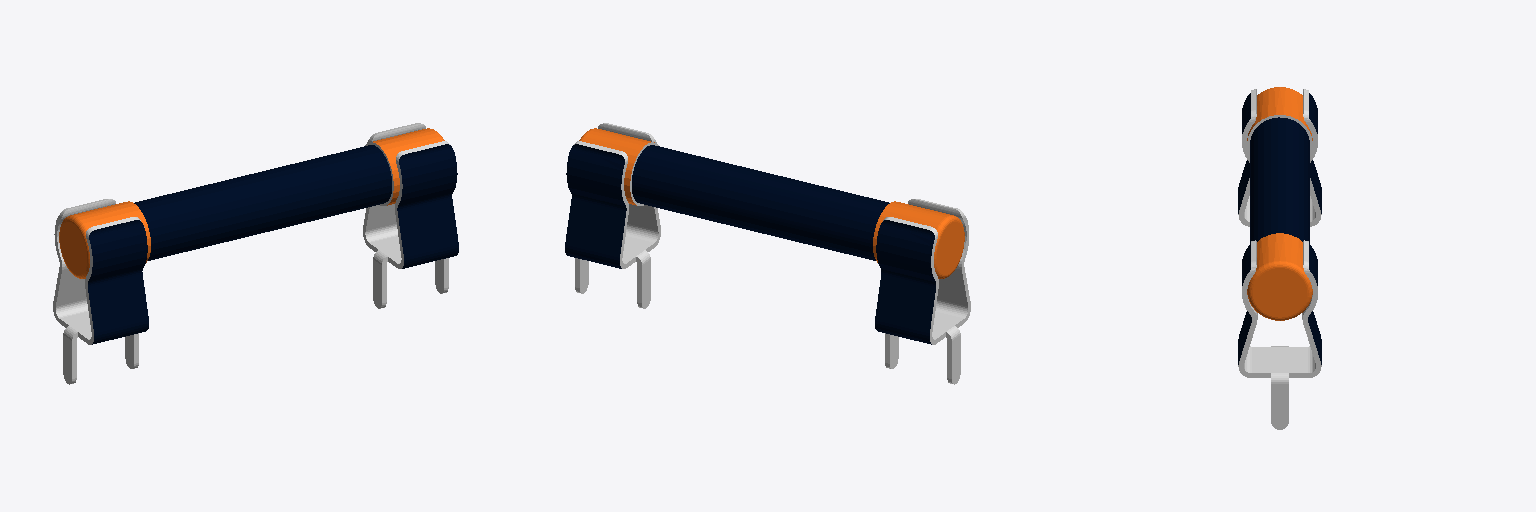
File: complex.obj
3 renders of one model, left to right at view 1: azimuth 30°, elevation 25°; view 2: azimuth 150°, elevation 25°; view 3: azimuth 270°, elevation 25°, orthographic.
Visible parts, largest first — view 1: Object.1; view 2: Object.1; view 3: Object.1.
Boxes of the visible parts, x1=… form: Object.1: x1=53, y1=123, x2=458, y2=384; Object.1: x1=565, y1=123, x2=970, y2=384; Object.1: x1=1238, y1=87, x2=1321, y2=429.
Bounding box in the file's own units: 30.88 × 12.85 × 5.9.